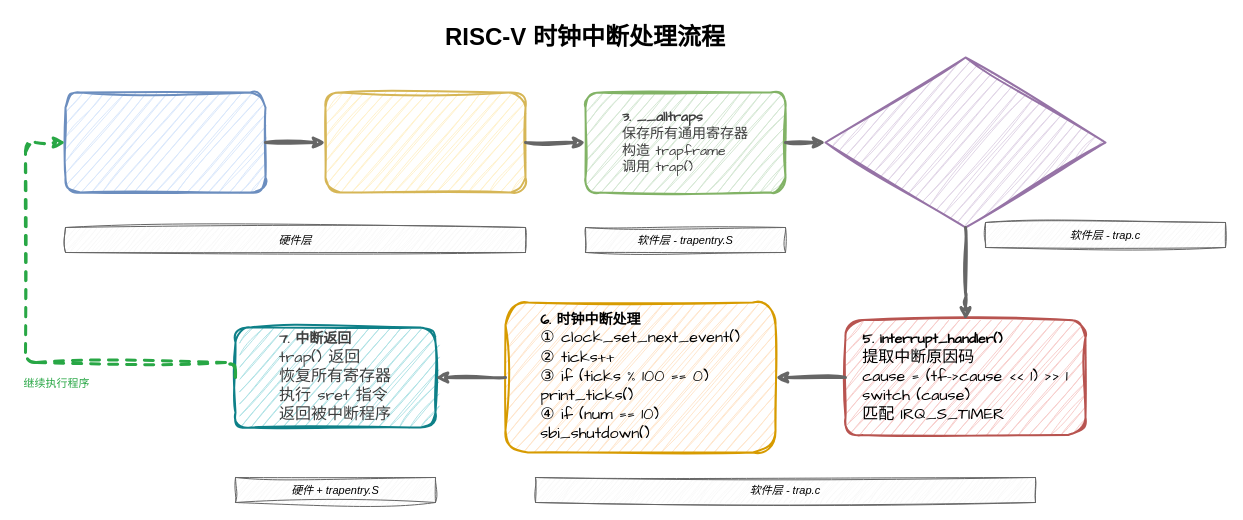
Image size: 1243x520. Some labels were removed from this diagram. The shapes that lost their labels are listed below. From the top down, each one's centre as x and y in pixels, then its label:
[165,142]: 1. 时钟中断触发 定时器计数器达到设定值 硬件自动触发 IRQ_S_TIMER
[425,142]: 2. 硬件自动保存 • pc → sepc • status → sstatus • 原因 → scause • 跳转到 stvec
[965,142]: 4. trap_dispatch() 检查 cause 最高位 最高位 = 1 ? → interrupt_handler()
